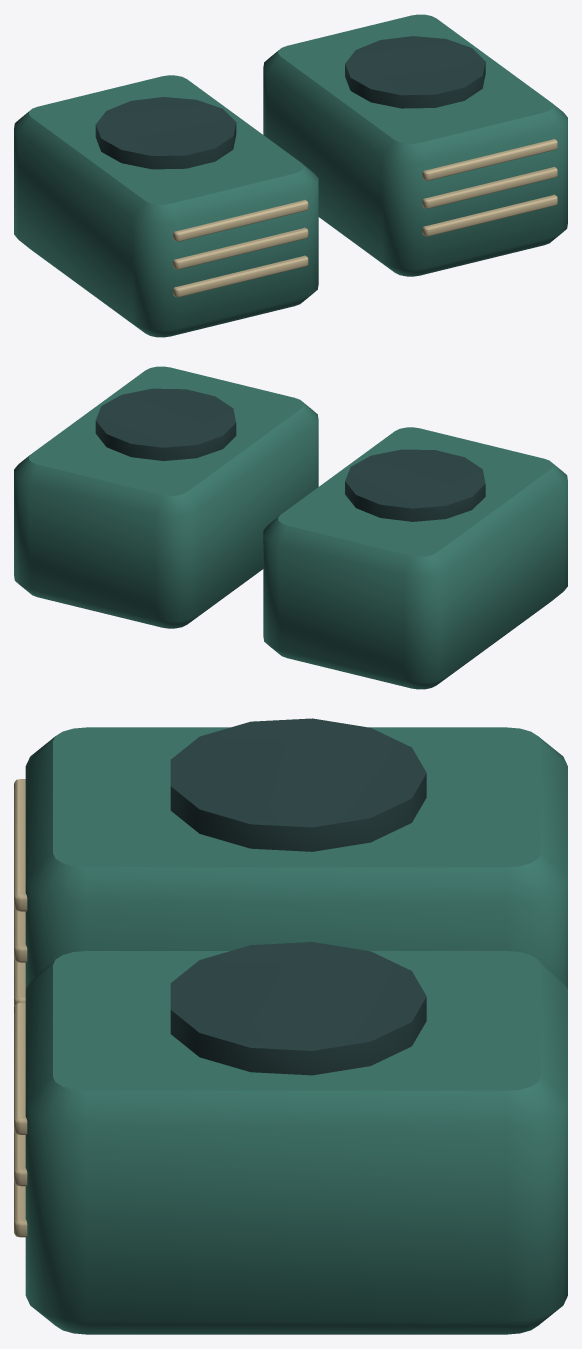
File: tropical_wash_3.glb
3 renders of one model, top to bottom at view 1: azimuth 30°, elevation 25°; view 2: azimuth 150°, elevation 25°; view 3: azimuth 270°, elevation 25°, orthographic. The views are drawn at different scales.
Parts seen in each view (by area): view 1: TropicalWash3; view 2: TropicalWash3; view 3: TropicalWash3.
Part boxes in pixels (left/top/right/bottom): TropicalWash3: left=14, top=14, right=567, bottom=337; TropicalWash3: left=14, top=366, right=567, bottom=689; TropicalWash3: left=14, top=718, right=567, bottom=1334.
Bounding box in the file's own units: 2.04 × 0.66 × 1.24.
